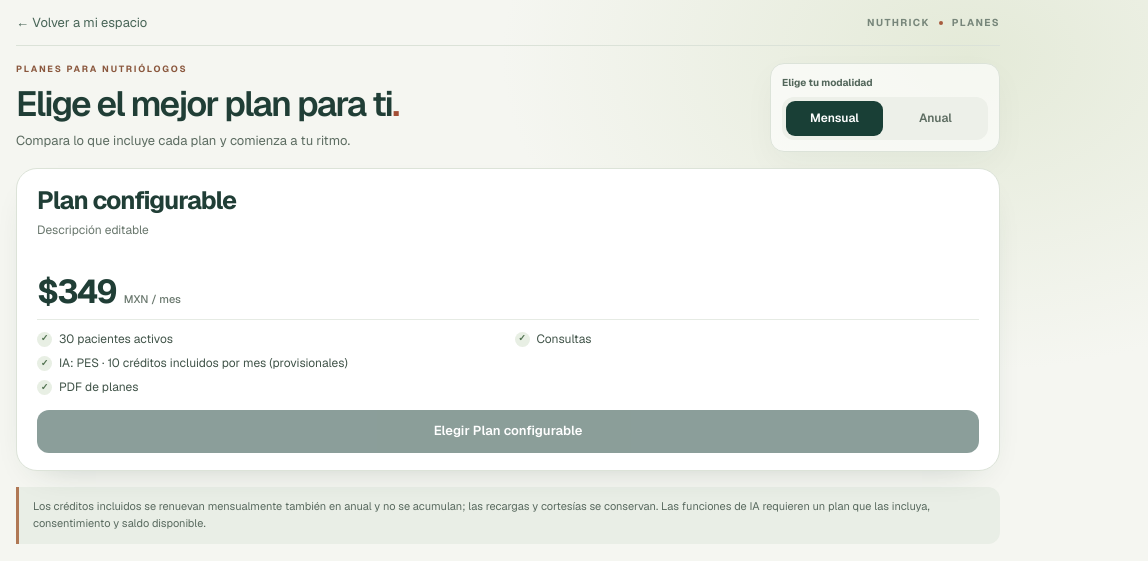
Test: reads the public projection and toggles independently configured prices
The image size is (1148, 561).
Expected: the heading "Plan configurable" is shown, [37, 184, 236, 216]
Expected: the text "$349" is shown, [37, 270, 116, 312]
Click the button "Anual" at [936, 118], box [887, 100, 984, 136]
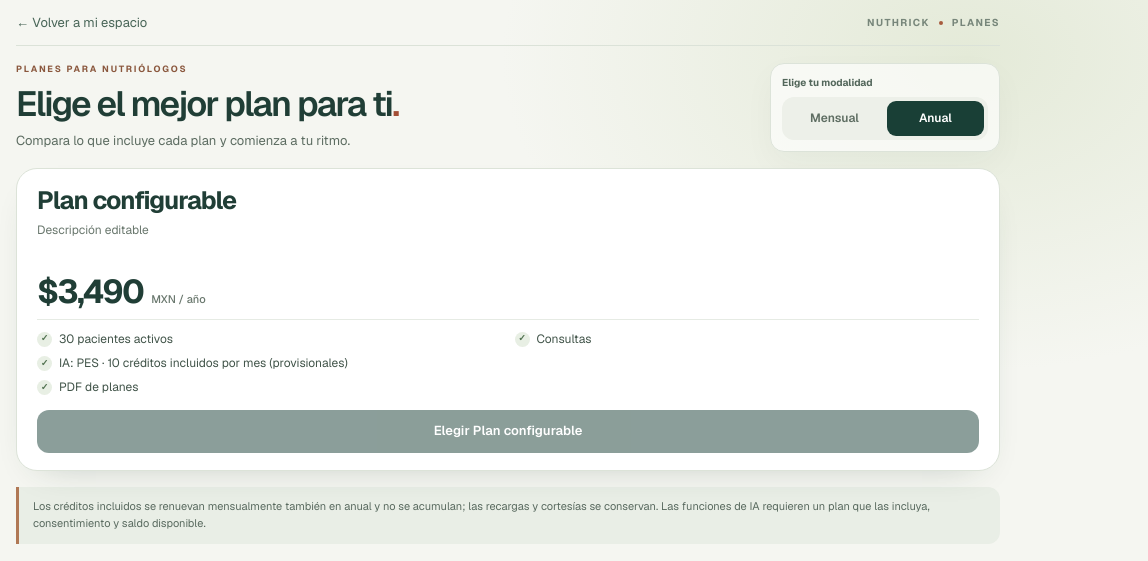
Expected: the list item "IA: PES · 10 créditos incluidos por mes (provisionales)" is shown, [59, 355, 348, 371]
Result: the text "$3,490" is shown at [37, 270, 143, 312]
